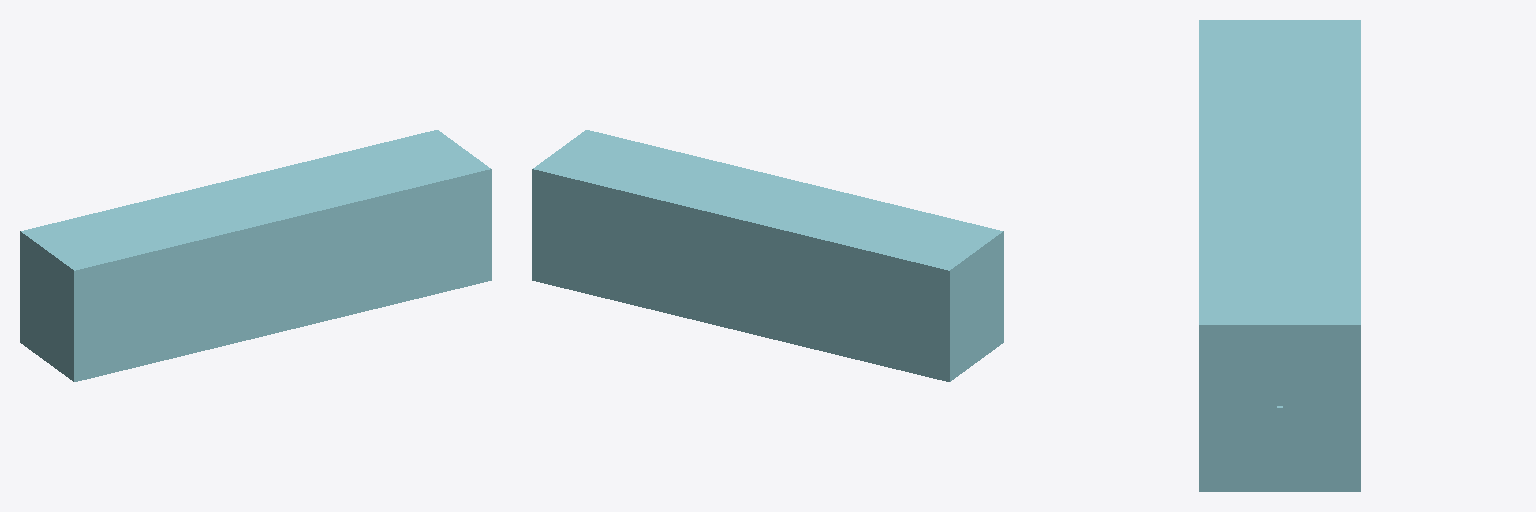
robot.urdf — cuboid_eraser_v7015:
<?xml version="1.0"?>
<robot name="cuboid_eraser_v7015">

  <link name="cuboid_eraser_v7015">
    <!-- Handle -->
    <visual>
      <origin xyz="0 0 0" rpy="0 0 0"/>
      <geometry>
        <box size="0.1417597439018396 0.031754855844032974 0.036267136525833854"/>
      </geometry>
      <material name="material">
        <color rgba="0.639 0.847 0.882 1.0"/>
      </material>
    </visual>
    <collision>
      <origin xyz="0 0 0" rpy="0 0 0"/>
      <geometry>
        <box size="0.1417597439018396 0.031754855844032974 0.036267136525833854"/>
      </geometry>
    </collision>

    <!-- Head -->
    <visual>
      <origin xyz="0.0713798719509198 0 0" rpy="0 0 0"/>
      <geometry>
        <box size="0.001 0.001 0.001"/>
      </geometry>
      <material name="material">
        <color rgba="0.639 0.847 0.882 1.0"/>
      </material>
    </visual>
    <collision>
      <origin xyz="0.0713798719509198 0 0" rpy="0 0 0"/>
      <geometry>
        <box size="0.001 0.001 0.001"/>
      </geometry>
    </collision>

    <inertial>
      <density value="400.0"/>
    </inertial>
  </link>

</robot>

--- Facts derived from the render (not from the file) ---
3 views of the same robot in one strip: view 1: azimuth 30°, elevation 25°; view 2: azimuth 150°, elevation 25°; view 3: azimuth 270°, elevation 25° (orthographic).
Model cuboid_eraser_v7015 with 1 links and 0 joints (none), rooted at cuboid_eraser_v7015, posed all joints at 0.
Visible links, largest first — view 1: cuboid_eraser_v7015; view 2: cuboid_eraser_v7015; view 3: cuboid_eraser_v7015.
Boxes of the visible links, x1=… form: cuboid_eraser_v7015: x1=20, y1=130, x2=491, y2=381; cuboid_eraser_v7015: x1=532, y1=130, x2=1003, y2=381; cuboid_eraser_v7015: x1=1199, y1=20, x2=1360, y2=491.
Bounding box of the posed robot: 0.1428 × 0.0318 × 0.0363 m (x, y, z).
Geometry: primitives only (box / cylinder / sphere), no mesh files.
